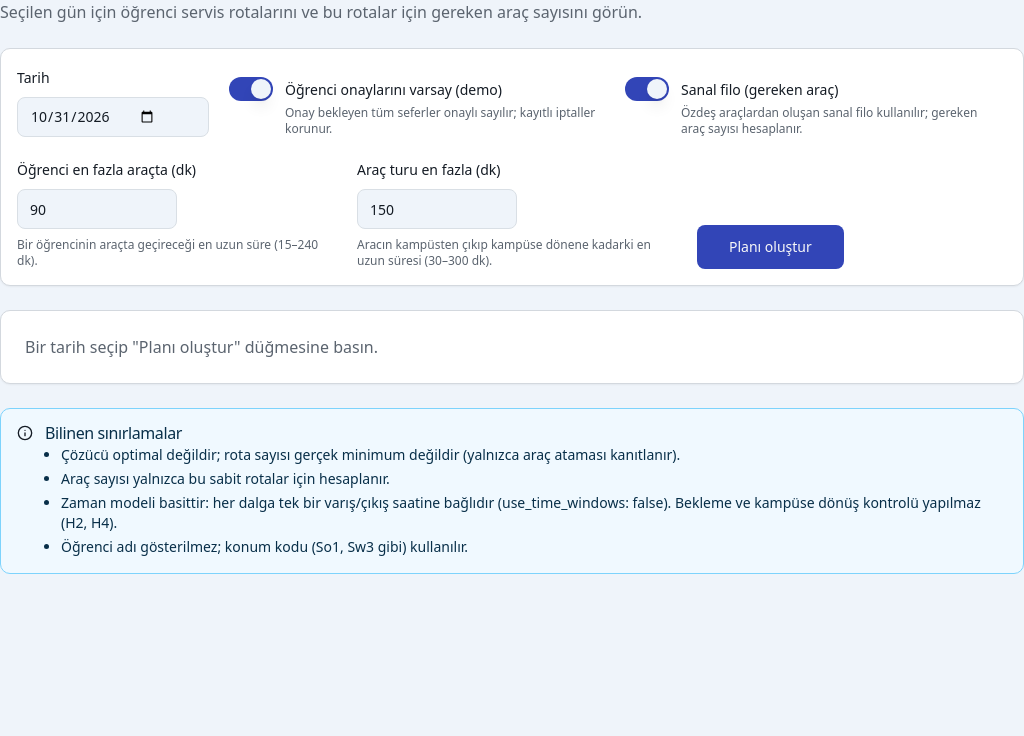
Test: DailyPlanPage › explains why 3 vehicles when the limits add one above the capacity floor
This screenshot has width=1024, height=736.
Type "2026-10-05" into the date field labelled "Tarih" at (113, 117), box [17,97,209,137]
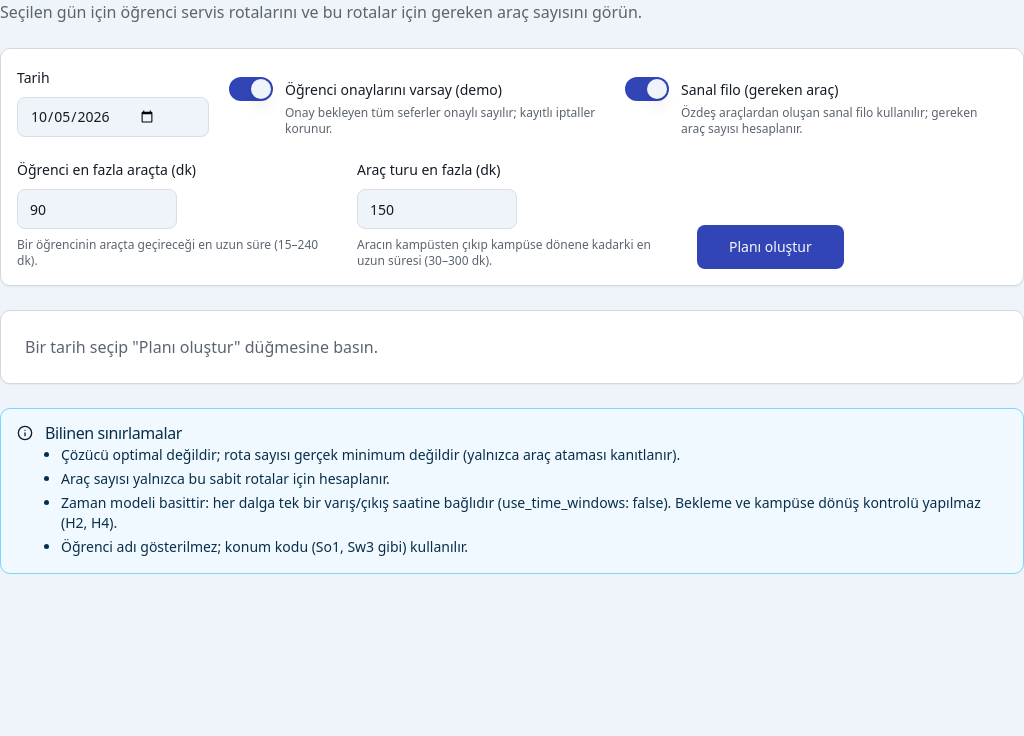
Click the button "Planı oluştur" at (770, 247), box [697,225,844,269]
(page scrolled)
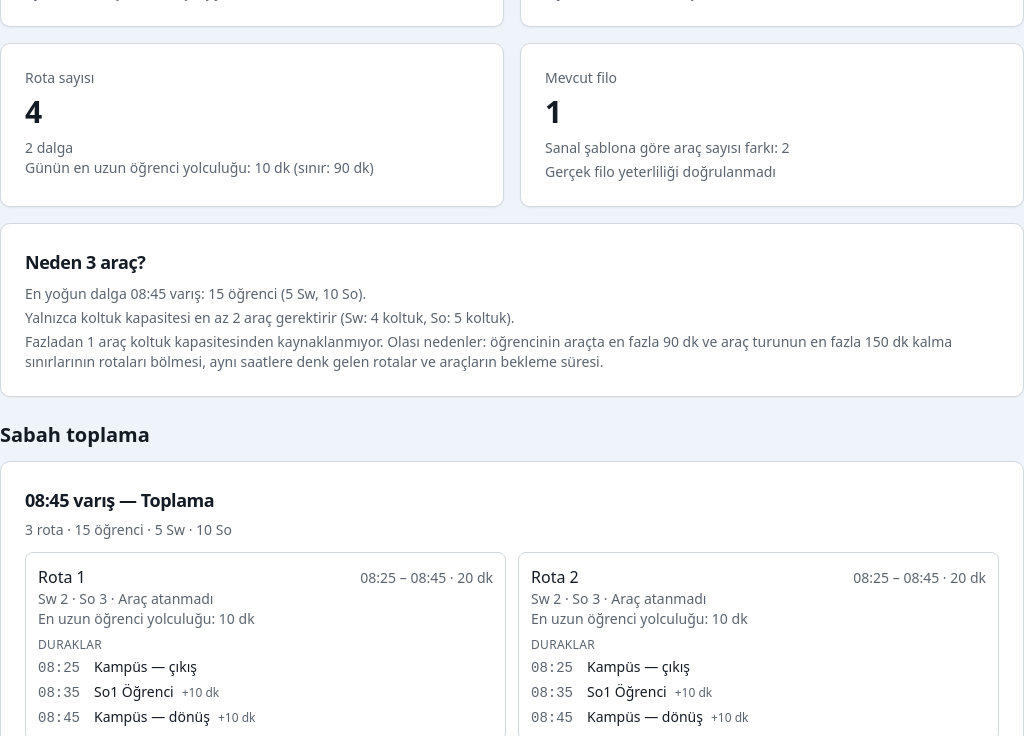
Now the text "Neden 3 araç?" is shown, box [25,250,145,274]
Now the text with test id "why-peak" reads "En yoğun dalga 08:45 varış: 15 öğrenci (5 Sw, 10 So).", box [25,284,366,303]
Now the text with test id "why-floor" reads "Yalnızca koltuk kapasitesi en az 2 araç gerektirir (Sw: 4 koltuk, So: 5 koltuk).", box [25,308,514,327]
